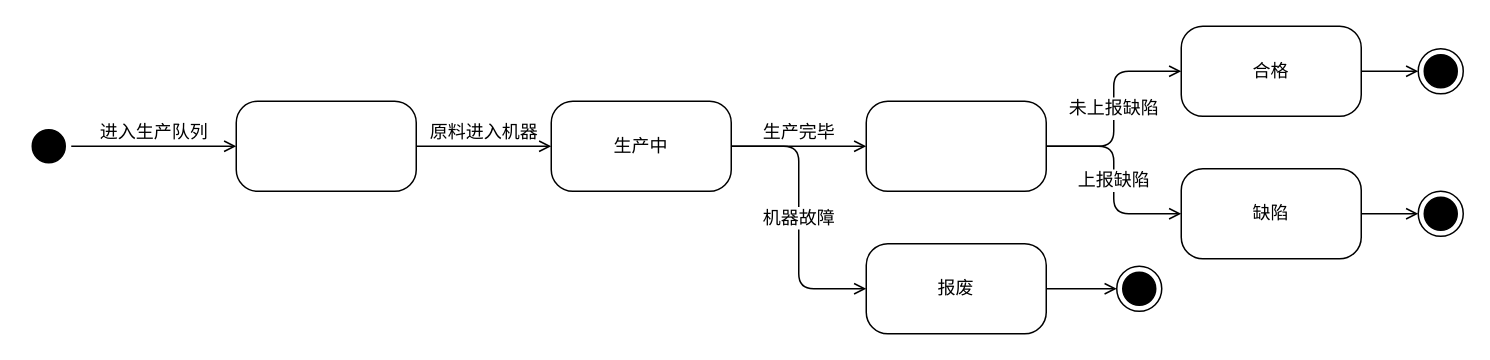
This 1490x360 diagram has some shape labels left out. The centre of each missing label's shape, as x and y in pixels:
"待检验" goes at point (955, 145).
"等待生产" goes at point (325, 145).
